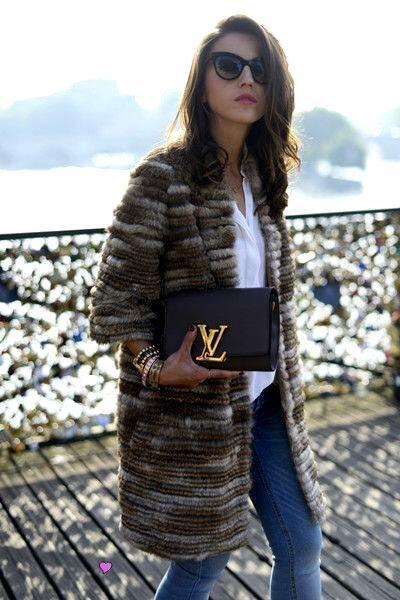LOUIS-VUITTON: (194, 320, 234, 366)
